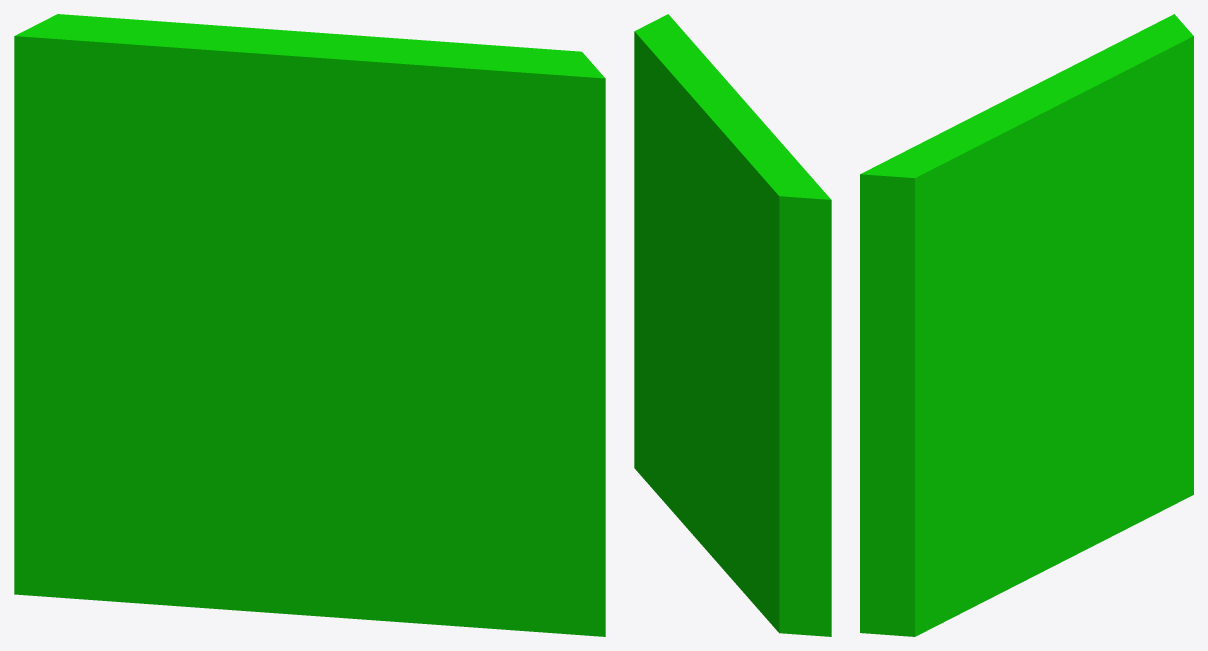
File: sm_castle_047.fbx
3 renders of one model, left to right at view 1: azimuth 30°, elevation 25°; view 2: azimuth 150°, elevation 25°; view 3: azimuth 270°, elevation 25°, orthographic. The views are drawn at different scales.
Parts seen in each view (by area): view 1: sm_castle.047; view 2: sm_castle.047; view 3: sm_castle.047.
Part boxes in pixels (bbox=[...]): sm_castle.047: bbox=[14, 14, 605, 636]; sm_castle.047: bbox=[634, 14, 831, 636]; sm_castle.047: bbox=[860, 14, 1193, 636].
Size of the model in its own units: 434 by 565 by 373.
